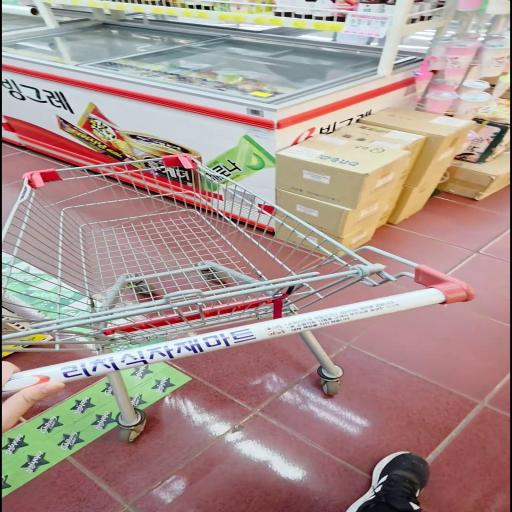empty_cart: (0, 154, 475, 439)
